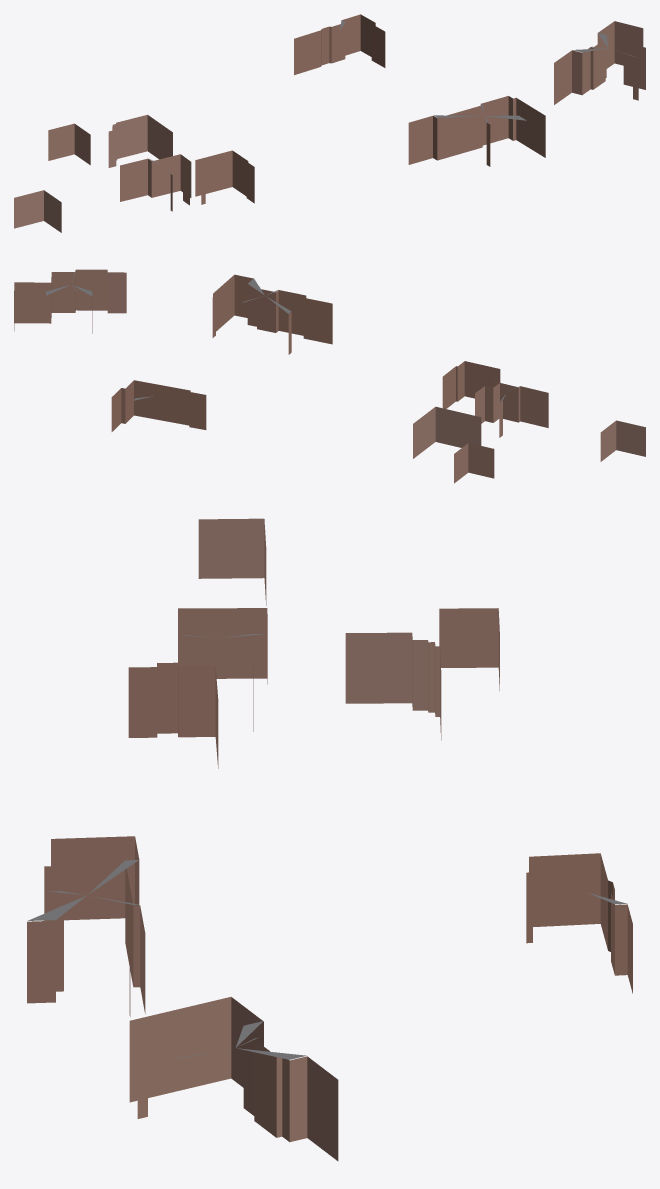
The model's file is c_1643_17819_buildings_residential.glb.
3 views of the same model, one above another, from view 1: azimuth 30°, elevation 25°; view 2: azimuth 150°, elevation 25°; view 3: azimuth 270°, elevation 25° (orthographic). The views are drawn at different scales.
Visible parts, largest first — view 1: geometry_0; view 2: geometry_0; view 3: geometry_0.
Boxes of the visible parts, x1,y1,x2,y2 form: geometry_0: [14, 14, 645, 232]; geometry_0: [14, 269, 645, 483]; geometry_0: [27, 518, 632, 1161].
Size of the model in its own units: 172 by 11.08 by 73.84.
